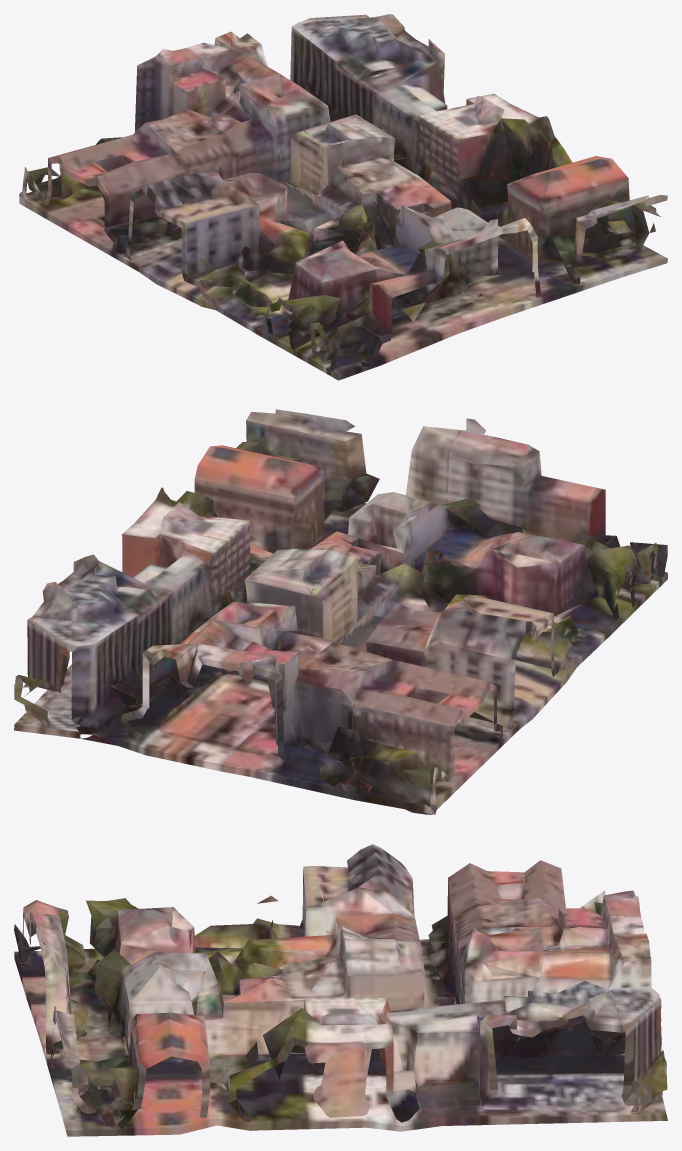
The picture shows the model from 3 angles, top to bottom: view 1: azimuth 30°, elevation 25°; view 2: azimuth 150°, elevation 25°; view 3: azimuth 270°, elevation 25°; orthographic projection. The views are drawn at different scales.
Visible parts, largest first — view 1: Mesh_0; view 2: Mesh_0; view 3: Mesh_0.
Part boxes in pixels (bbox=[...]): Mesh_0: bbox=[19, 14, 667, 380]; Mesh_0: bbox=[14, 409, 667, 814]; Mesh_0: bbox=[14, 844, 667, 1136].
Size of the model in its own units: 135 by 37.69 by 165.
Materials: 1 (1 with a texture image).
